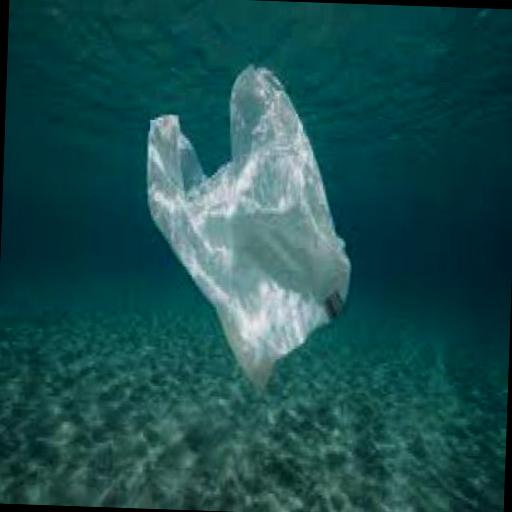plastic: (136, 58, 356, 400)
